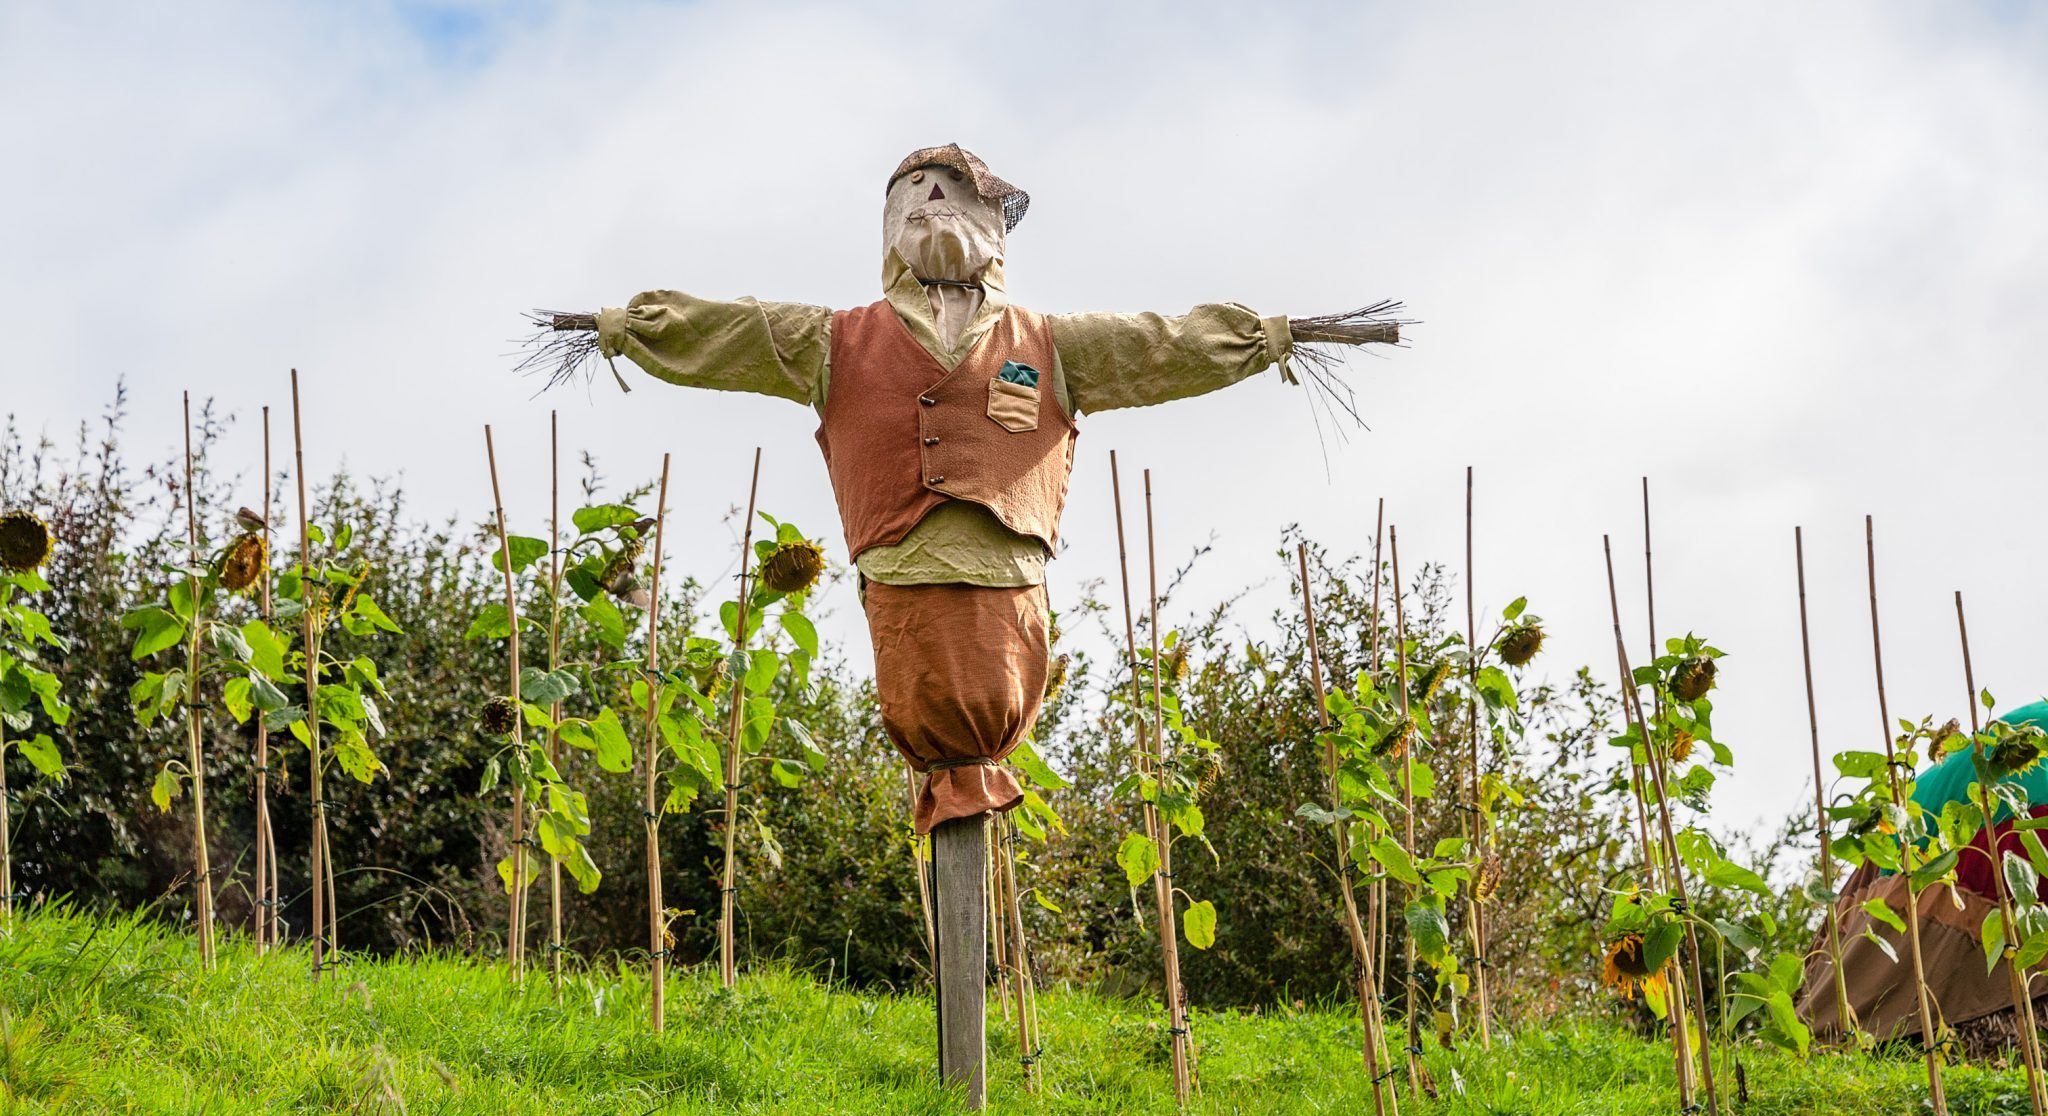person-like: (508, 121, 1415, 834)
